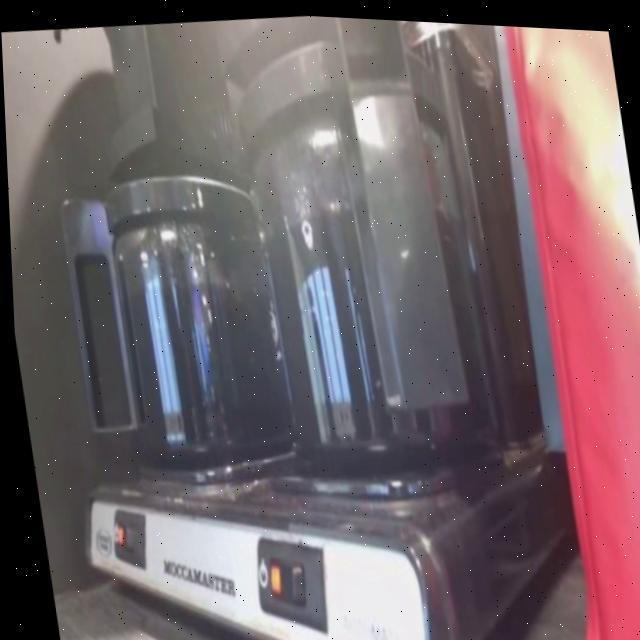coffee: (255, 155, 495, 476), (103, 222, 289, 455)
